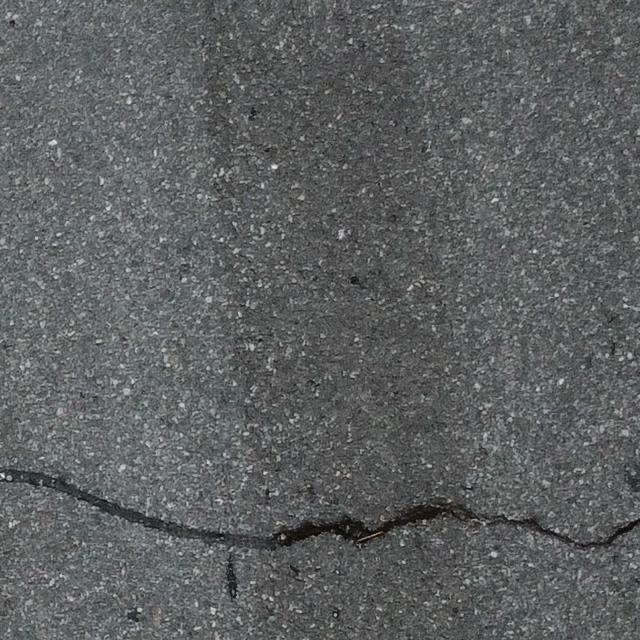TransverseCrack: (1, 469, 640, 552)
